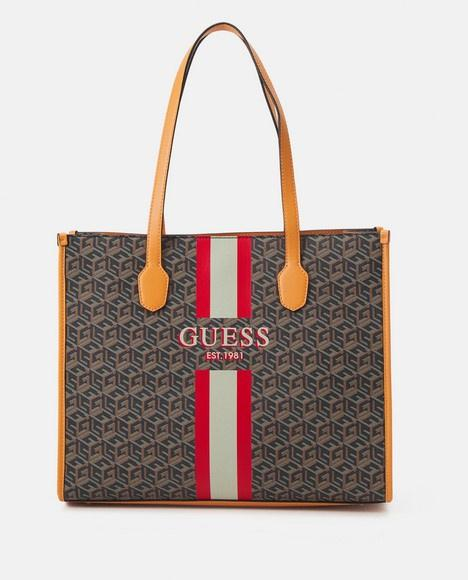GUESS: (178, 327, 270, 346)
